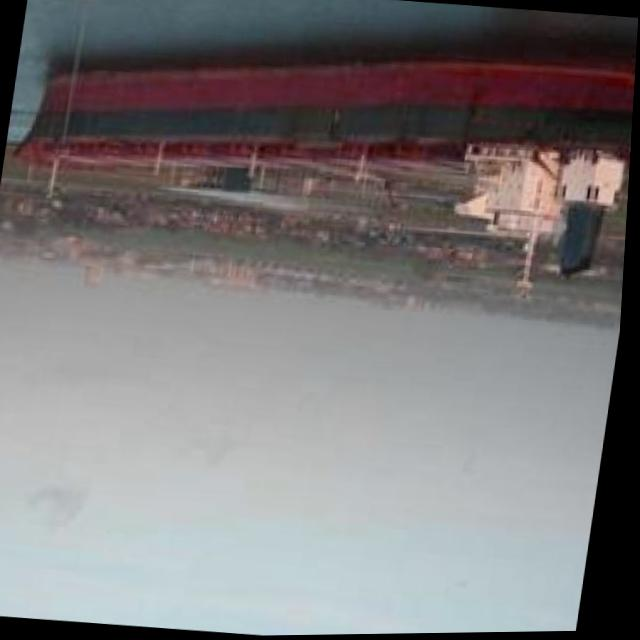ship2: (15, 57, 637, 301)
